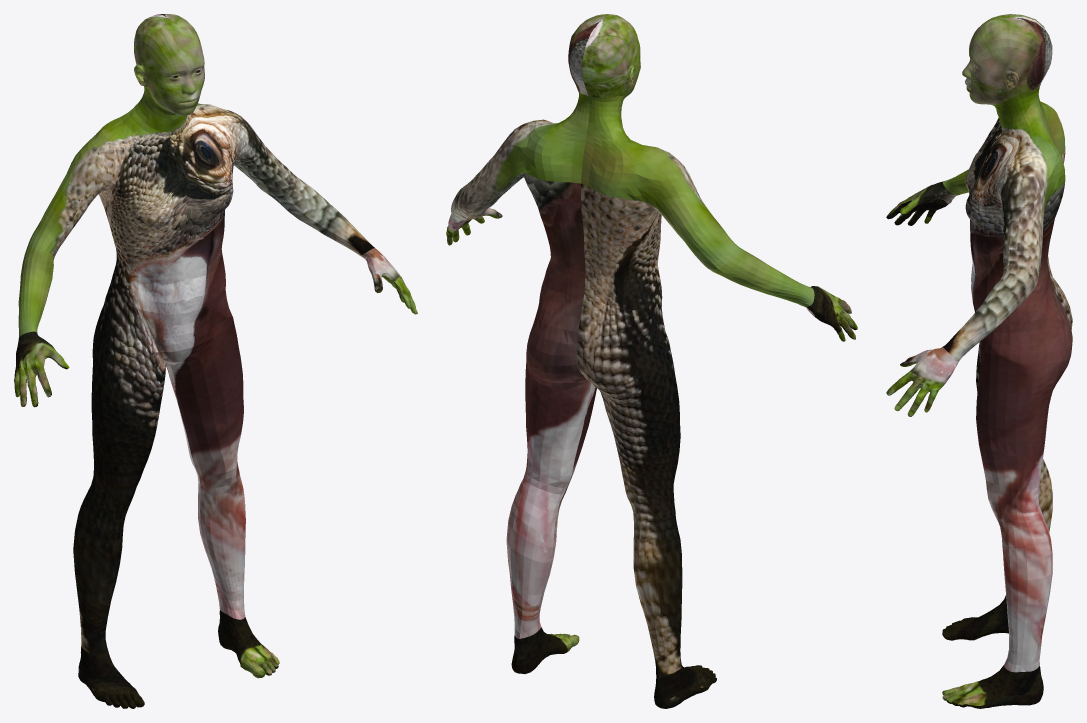
File: human.obj
The picture shows the model from 3 angles, left to right: view 1: azimuth 30°, elevation 25°; view 2: azimuth 150°, elevation 25°; view 3: azimuth 270°, elevation 25°; orthographic projection.
Parts seen in each view (by area): view 1: 3DSMesh_1_1; view 2: 3DSMesh_1_1; view 3: 3DSMesh_1_1.
Boxes of the visible parts, x1=… form: 3DSMesh_1_1: x1=14, y1=14, x2=417, y2=708; 3DSMesh_1_1: x1=446, y1=14, x2=857, y2=708; 3DSMesh_1_1: x1=886, y1=14, x2=1072, y2=708.
Size of the model in its own units: 1.05 by 1.66 by 0.43.
